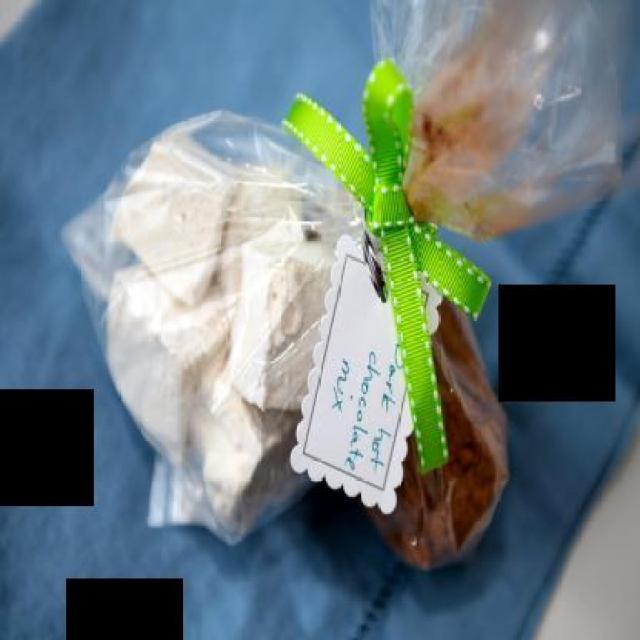plastic bag: (58, 0, 621, 572)
